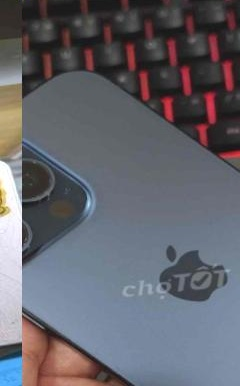physical_damage: (0, 220, 22, 288), (0, 275, 22, 343)
scratch: (22, 146, 64, 268)
